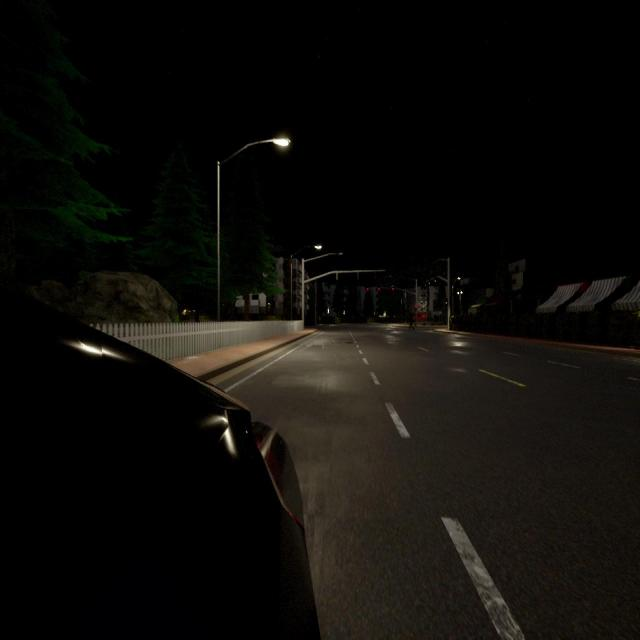Pedestrian: (408, 307, 415, 329)
Vehicle: (0, 288, 319, 640)
traffic_light: (366, 287, 368, 294), (378, 287, 380, 294), (415, 304, 417, 310), (392, 288, 394, 294)
